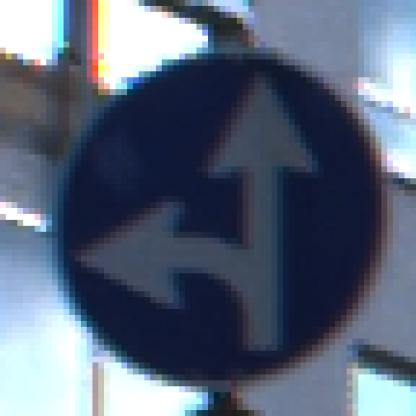Straight or Left: (42, 43, 383, 381)
